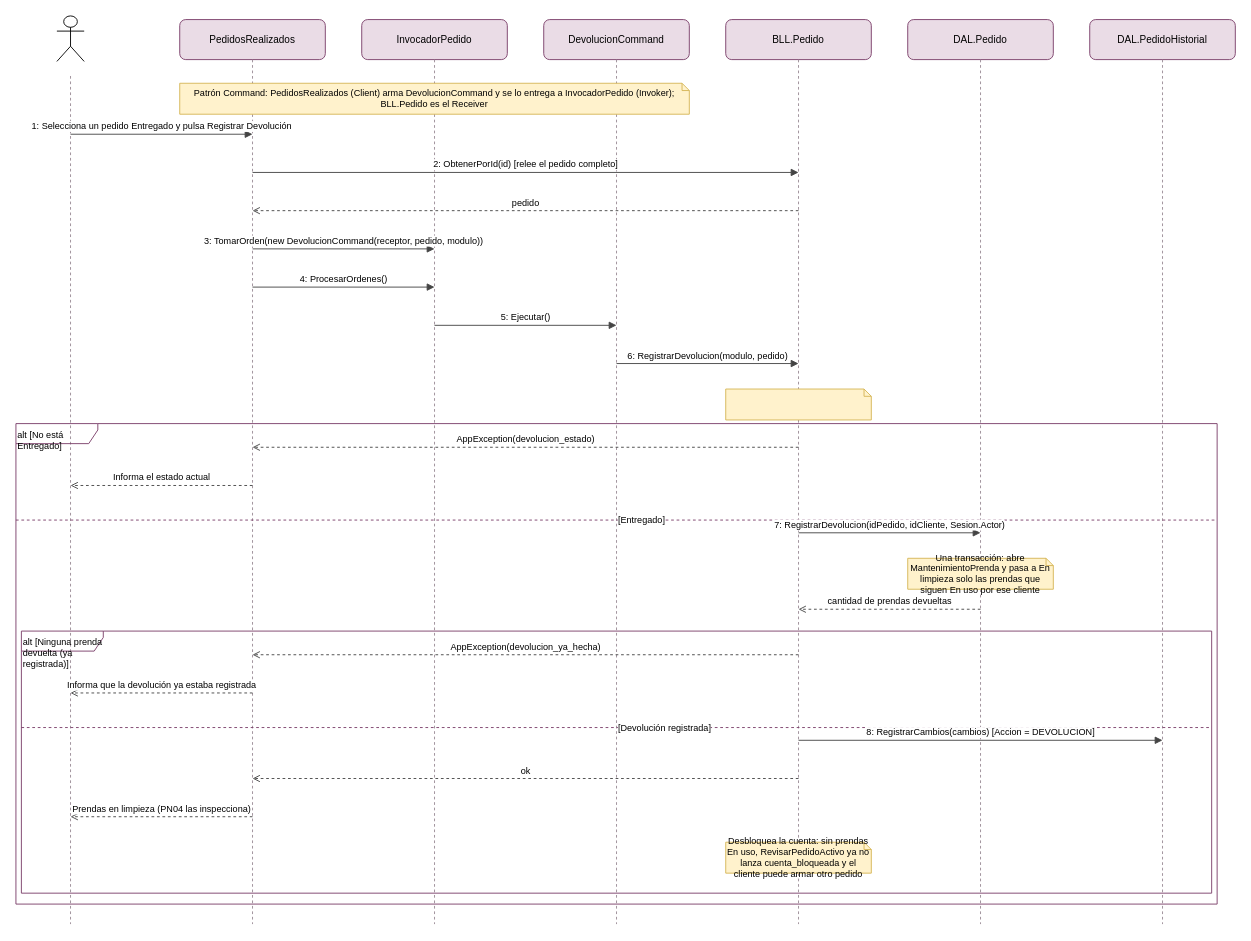
Image size: 1251x941. Some labels were removed from this diagram. Here are the shapes that lost their labels. From the top down, the centre of each, then its label:
At (70,38): "Depósito / Logística".
At (798,404): "Exigir(PedidosRealizadosEditar)".
